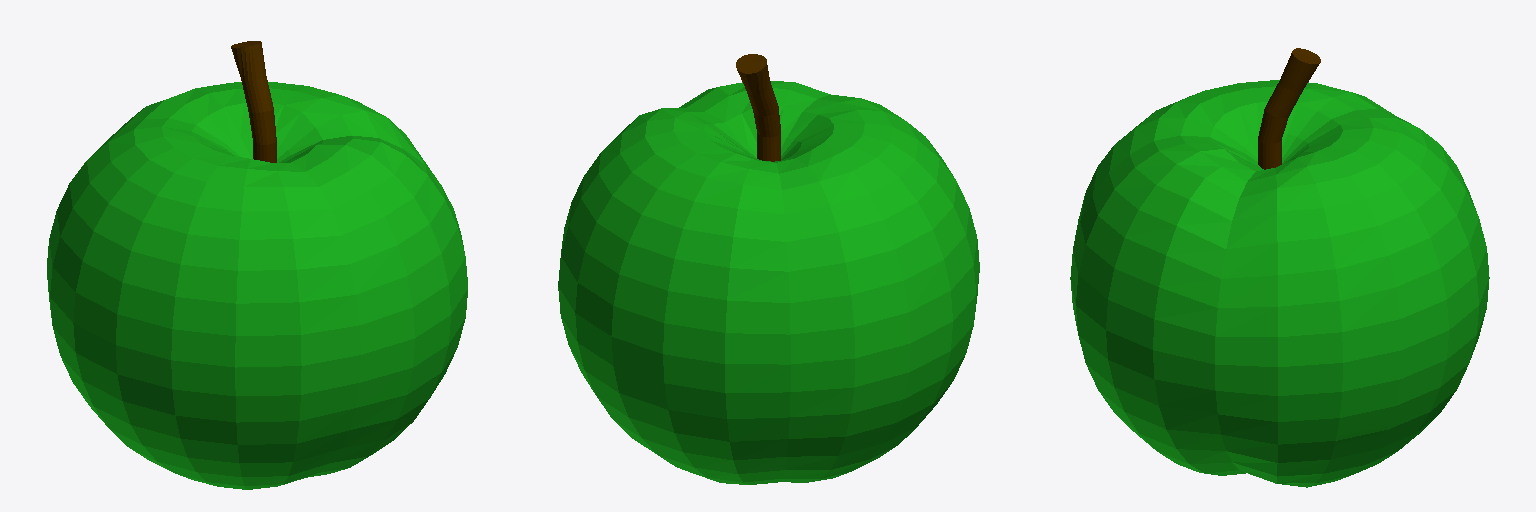
3 views of the same model, side by side, from view 1: azimuth 30°, elevation 25°; view 2: azimuth 150°, elevation 25°; view 3: azimuth 270°, elevation 25° (orthographic).
Parts seen in each view (by area): view 1: pSphere1, pCylinder1; view 2: pSphere1, pCylinder1; view 3: pSphere1, pCylinder1.
Boxes of the visible parts, x1=… form: pSphere1: x1=47, y1=82, x2=467, y2=489; pCylinder1: x1=231, y1=41, x2=276, y2=162; pSphere1: x1=558, y1=81, x2=979, y2=484; pCylinder1: x1=736, y1=54, x2=780, y2=161; pSphere1: x1=1070, y1=80, x2=1489, y2=487; pCylinder1: x1=1258, y1=48, x2=1320, y2=169.
Size of the model in its own units: 3.81 by 4.06 by 3.76.
2 materials, 2 textured.